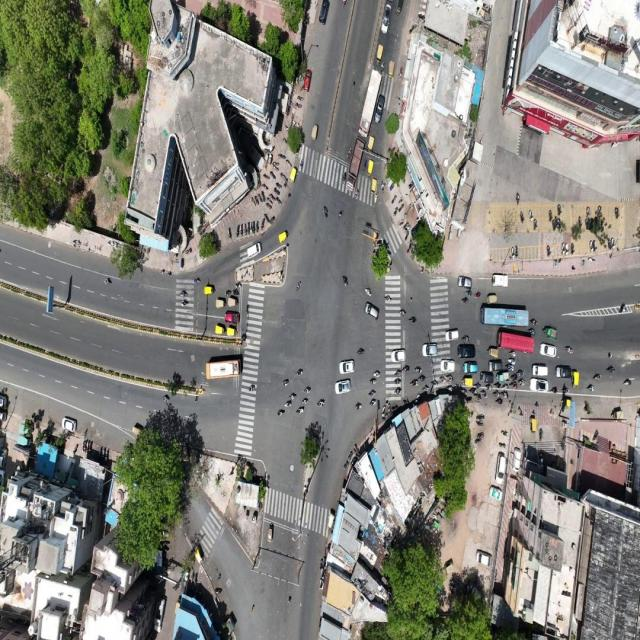3W: (190, 542, 206, 570), (264, 520, 279, 548), (542, 323, 558, 342), (374, 42, 384, 66), (276, 228, 290, 245), (528, 416, 538, 435), (289, 166, 298, 184), (388, 59, 395, 82), (572, 370, 580, 390), (214, 297, 226, 310), (226, 325, 238, 338), (486, 292, 498, 305), (486, 346, 499, 358), (460, 376, 474, 387), (311, 123, 319, 142), (203, 285, 215, 297), (367, 158, 374, 178), (370, 176, 377, 196), (496, 372, 510, 382), (215, 323, 226, 335), (227, 296, 238, 308), (368, 136, 375, 154)
Bus: (191, 353, 246, 378), (478, 305, 529, 328), (496, 331, 534, 354)
Cars: (58, 412, 82, 438), (494, 451, 508, 487), (361, 300, 380, 323), (380, 2, 392, 38), (374, 93, 386, 126), (332, 378, 354, 396), (337, 358, 357, 376), (538, 343, 558, 359), (529, 378, 549, 394), (492, 271, 508, 290), (458, 343, 476, 359), (554, 364, 572, 380), (302, 67, 313, 93), (387, 349, 409, 362), (246, 242, 263, 258), (421, 342, 438, 358), (444, 326, 460, 342), (462, 360, 479, 375), (479, 369, 495, 384), (224, 311, 242, 324), (531, 364, 549, 377), (440, 358, 455, 373), (458, 274, 473, 289), (487, 360, 504, 371)
M2W: (101, 271, 114, 293), (293, 271, 303, 298), (339, 269, 351, 290), (176, 299, 193, 313), (274, 404, 285, 422), (174, 286, 190, 298), (322, 197, 330, 221), (246, 381, 257, 398), (278, 376, 291, 390), (295, 361, 304, 380), (365, 282, 375, 298), (336, 203, 345, 220), (564, 342, 574, 357), (352, 400, 364, 412), (226, 223, 233, 242), (605, 363, 616, 375), (284, 398, 294, 411), (295, 407, 306, 418), (191, 275, 203, 285), (304, 382, 314, 394), (301, 394, 311, 406), (344, 146, 352, 161), (407, 378, 419, 388), (623, 376, 633, 388), (585, 382, 595, 394), (318, 398, 327, 411), (298, 153, 304, 172), (289, 391, 300, 401), (235, 219, 240, 241), (372, 368, 383, 378), (408, 314, 417, 326), (516, 189, 522, 207), (614, 207, 621, 222), (357, 346, 367, 356), (461, 332, 471, 342), (392, 368, 403, 377), (475, 429, 486, 438), (527, 209, 534, 223), (250, 194, 256, 210), (260, 216, 266, 232), (550, 384, 558, 396), (562, 384, 570, 396), (257, 192, 264, 205), (261, 180, 270, 190), (398, 308, 407, 318), (393, 377, 403, 386), (592, 372, 601, 382), (538, 427, 544, 442), (280, 171, 288, 182), (367, 378, 378, 386), (530, 315, 538, 326), (276, 194, 282, 208), (373, 192, 379, 206), (384, 292, 391, 304), (415, 363, 422, 375), (475, 421, 487, 428), (402, 364, 411, 373), (464, 288, 473, 297), (235, 280, 243, 290), (269, 170, 277, 180), (342, 170, 347, 186), (369, 397, 377, 407), (476, 412, 486, 420), (570, 242, 575, 258), (607, 236, 612, 252), (546, 209, 552, 222), (556, 204, 562, 217), (546, 245, 552, 258), (597, 202, 603, 215), (270, 192, 276, 204), (262, 172, 270, 181), (392, 388, 404, 394), (418, 374, 427, 382), (422, 384, 431, 392), (506, 363, 514, 372), (518, 378, 526, 387), (528, 327, 536, 336), (285, 158, 292, 168), (354, 186, 359, 200), (447, 384, 454, 394), (460, 297, 470, 304), (474, 290, 481, 300), (500, 391, 510, 398), (520, 210, 525, 224), (561, 242, 566, 256), (552, 218, 557, 232), (380, 61, 385, 74), (533, 218, 538, 231), (439, 376, 447, 384), (508, 357, 516, 365), (509, 381, 517, 389), (224, 288, 231, 297), (278, 151, 285, 160), (368, 389, 377, 396), (447, 373, 454, 382), (494, 397, 503, 404), (481, 389, 488, 398), (240, 223, 244, 238), (276, 180, 282, 190), (432, 378, 438, 388), (474, 439, 484, 445), (511, 245, 515, 260), (594, 239, 598, 254), (585, 204, 590, 216), (232, 289, 240, 296), (381, 180, 385, 194), (509, 349, 517, 356), (510, 372, 517, 380), (566, 242, 570, 256), (612, 236, 616, 250), (243, 222, 247, 235), (514, 245, 518, 258), (518, 369, 525, 376), (502, 383, 508, 391), (493, 382, 501, 388), (471, 386, 477, 394), (363, 158, 366, 172), (493, 390, 500, 396), (476, 396, 482, 403), (252, 221, 255, 234), (590, 241, 593, 254), (486, 385, 492, 391), (248, 221, 250, 234)
Truck: (353, 68, 383, 138), (337, 138, 366, 194)
